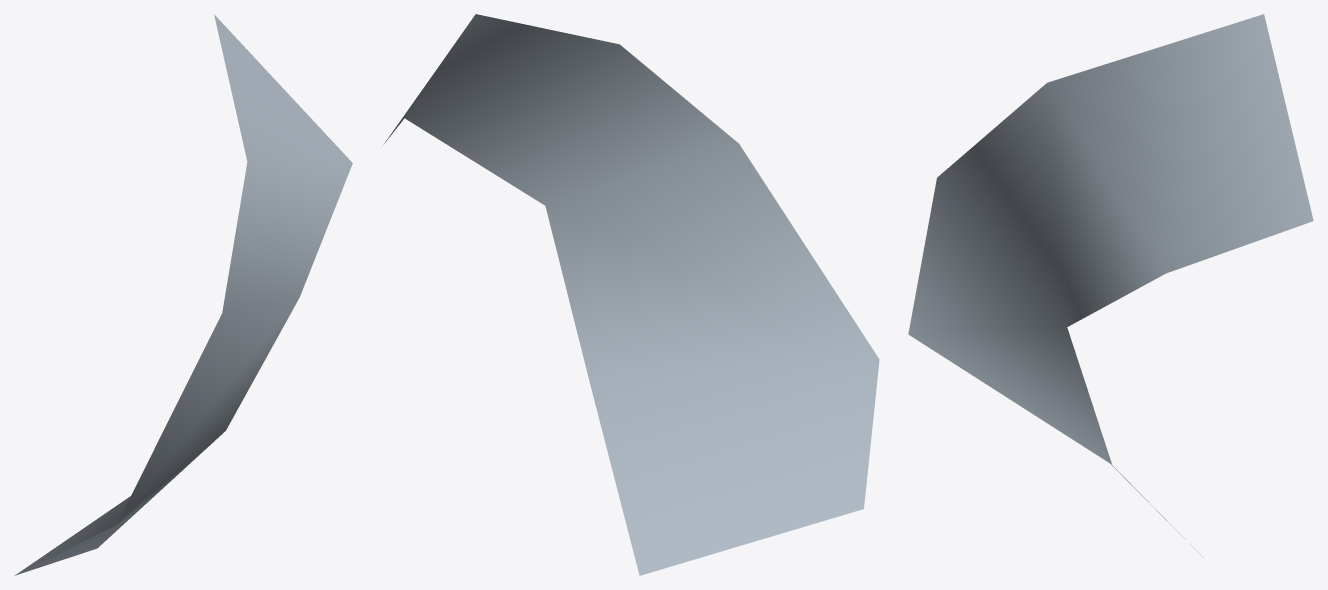
File: anterior-ligament-of-fibular-head-l.glb
The picture shows the model from 3 angles, left to right: view 1: azimuth 30°, elevation 25°; view 2: azimuth 150°, elevation 25°; view 3: azimuth 270°, elevation 25°; orthographic projection. The views are drawn at different scales.
Parts seen in each view (by area): view 1: Anterior ligament of fibular head.l; view 2: Anterior ligament of fibular head.l; view 3: Anterior ligament of fibular head.l.
Part boxes in pixels (x1,y1,x2,y2): Anterior ligament of fibular head.l: (14, 14, 352, 575); Anterior ligament of fibular head.l: (383, 14, 879, 575); Anterior ligament of fibular head.l: (908, 14, 1313, 557).
Size of the model in its own units: 0.016 by 0.0198 by 0.0112.
